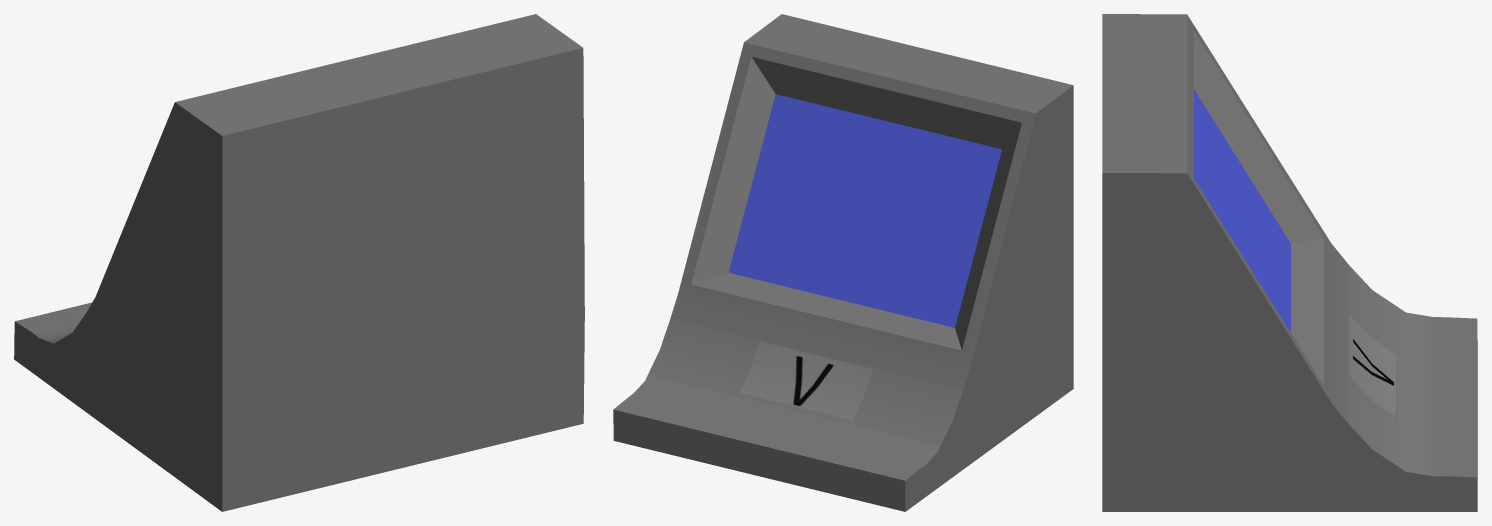
The model's file is Woltmeter.gltf.
3 views of the same model, side by side, from view 1: azimuth 30°, elevation 25°; view 2: azimuth 150°, elevation 25°; view 3: azimuth 270°, elevation 25° (orthographic). The views are drawn at different scales.
Visible parts, largest first — view 1: Cube.006; view 2: Cube.006; view 3: Cube.006.
Boxes of the visible parts, x1,y1,x2,y2 form: Cube.006: (14, 14, 584, 511); Cube.006: (613, 14, 1073, 511); Cube.006: (1102, 14, 1477, 511).
Bounding box in the file's own units: 2.01 × 1.99 × 2.
3 materials, 1 textured.
